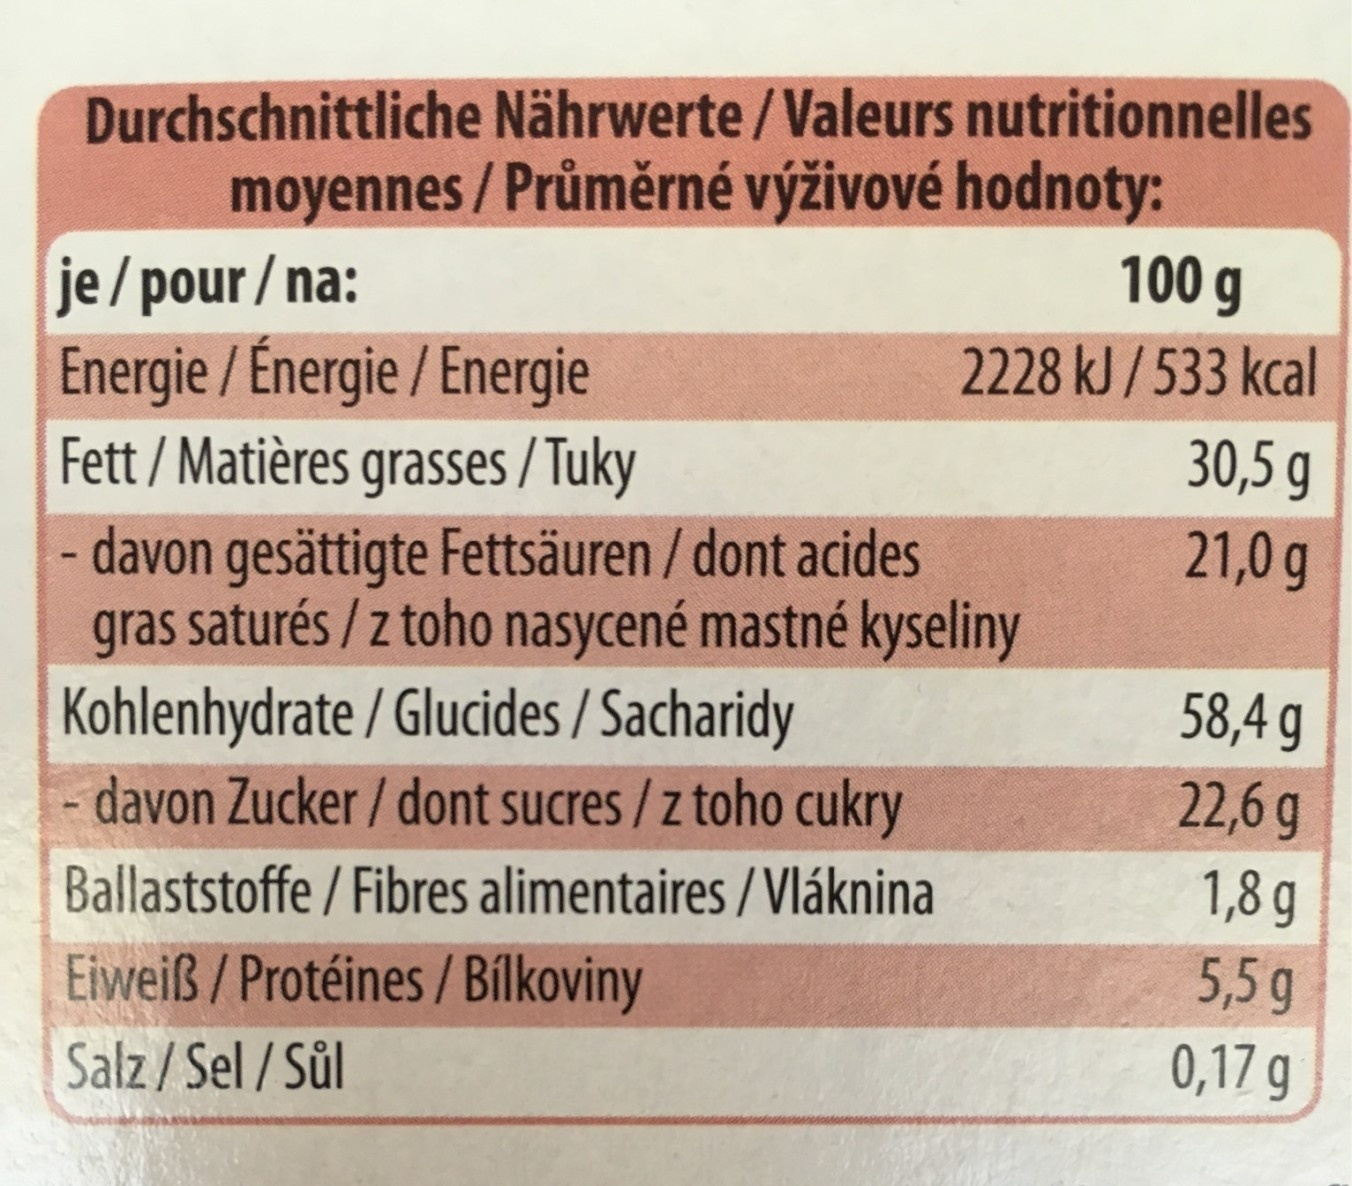column: (44, 234, 955, 1104), (965, 233, 1329, 1102)
table: (48, 230, 1322, 1114)
